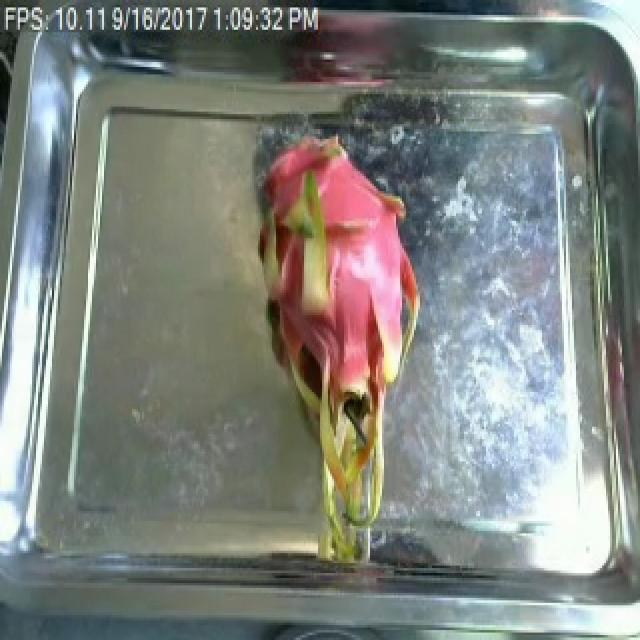fruit: (244, 139, 440, 573)
